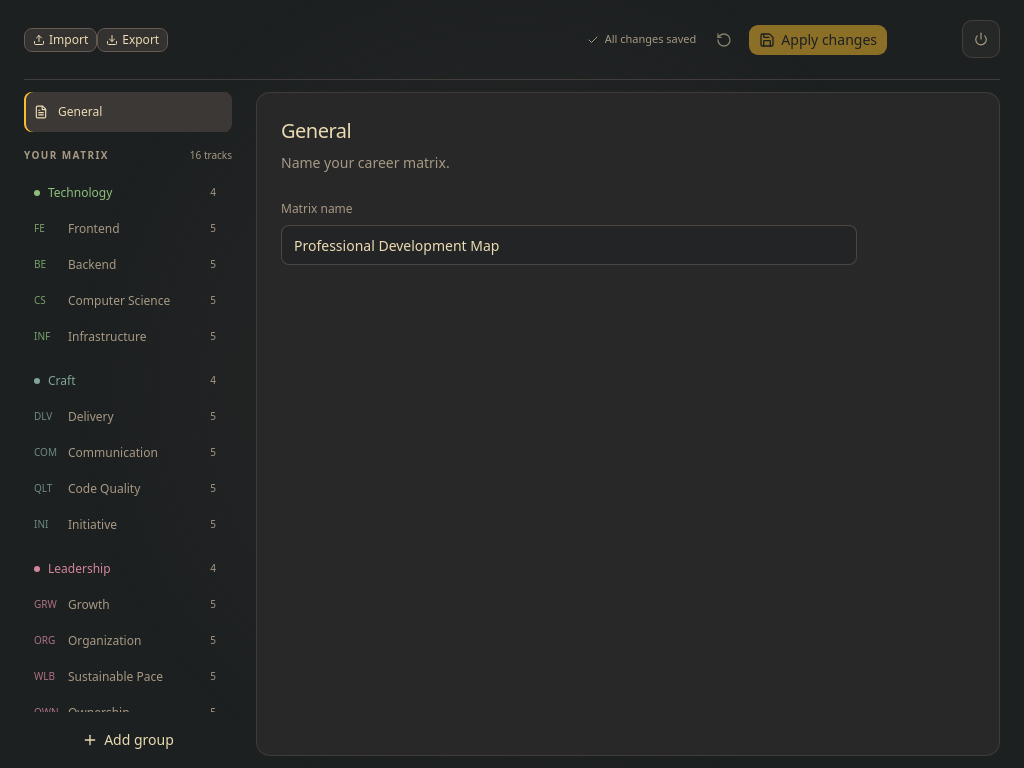
Test: <SettingsScreen /> › exports the saved document and reports omitted draft changes
This screenshot has width=1024, height=768.
Replace the text in the field labelled "Matrix name" with "Unsaved schema". click: (569, 245)
box: left=281, top=225, right=857, bottom=265
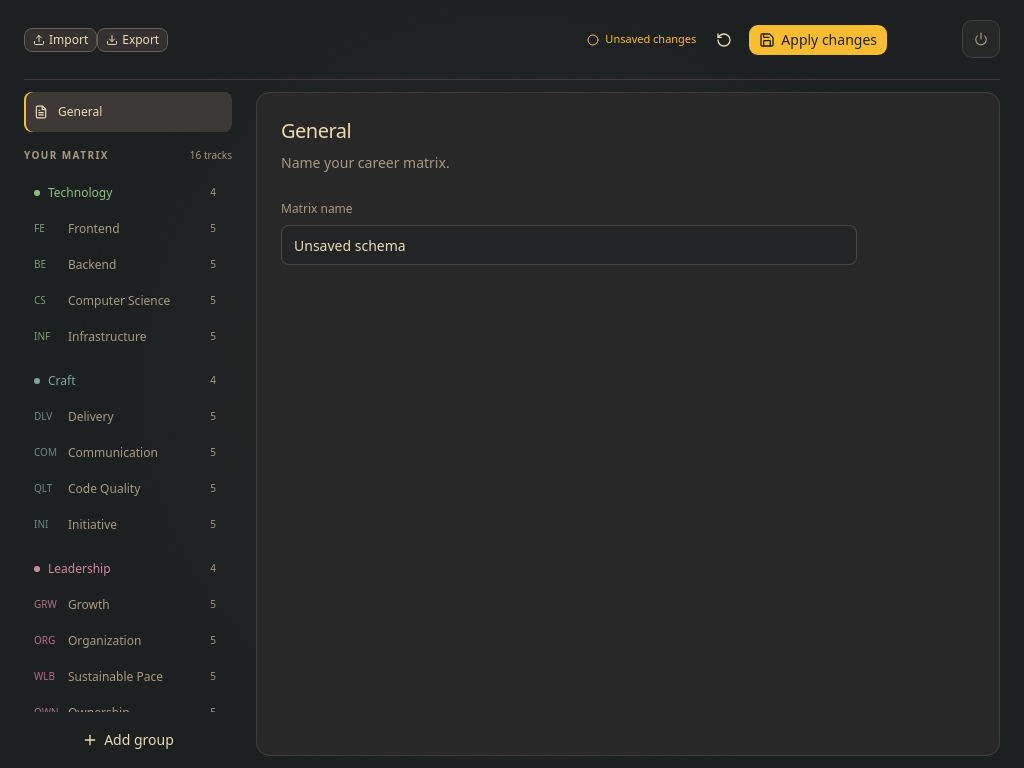
Click the button "Export". click: (133, 40)
box: left=97, top=28, right=168, bottom=52
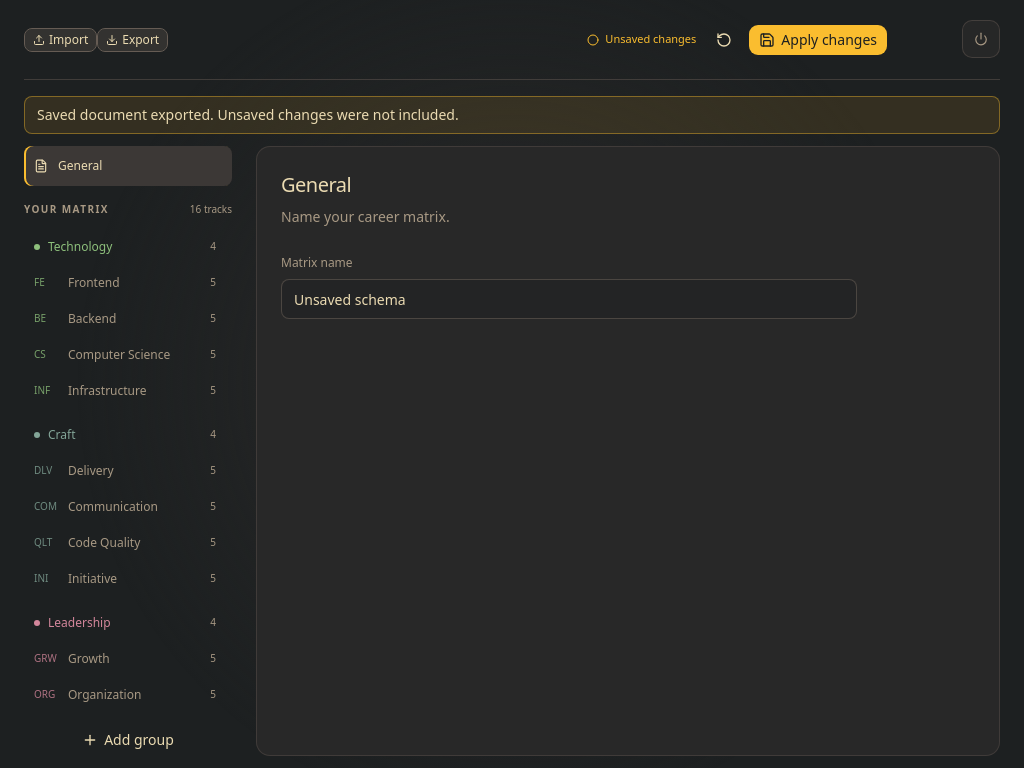
Check: the text "Saved document exported. Unsaved changes were not included." is shown, box left=24, top=96, right=1000, bottom=134
